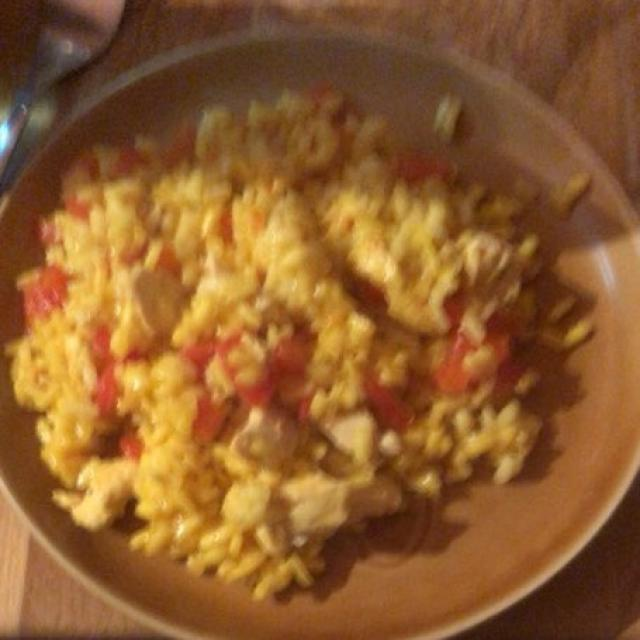rice: (15, 98, 589, 593)
tomato: (10, 99, 586, 605)
